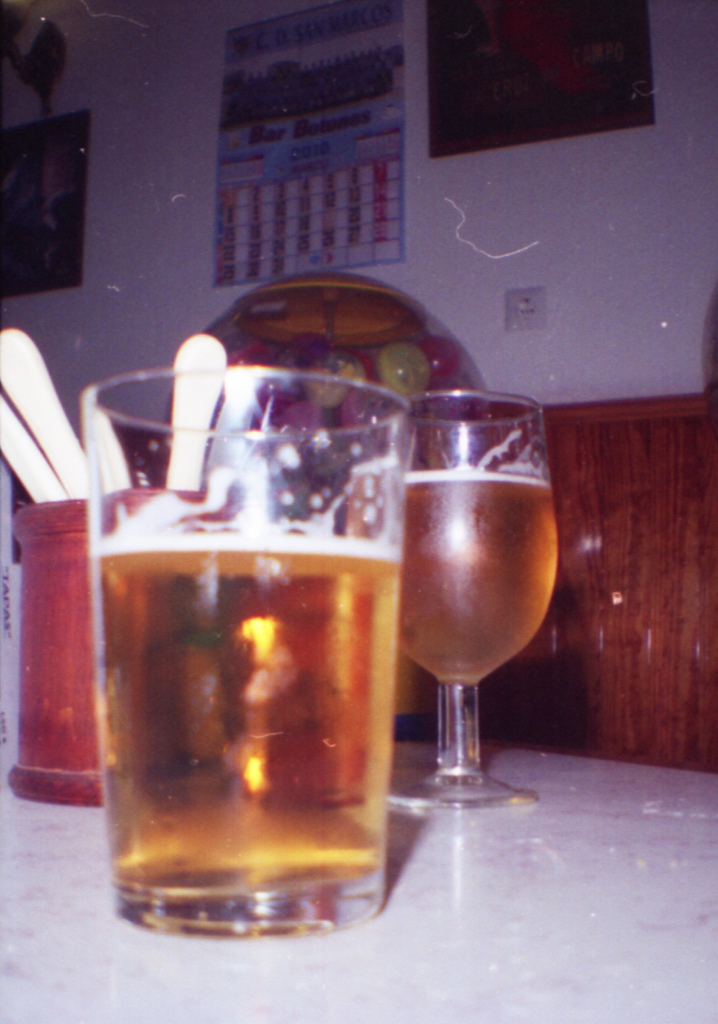Beer: (92, 520, 387, 917), (393, 473, 555, 683)
